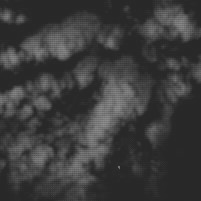dim target: (117, 164, 122, 170)
